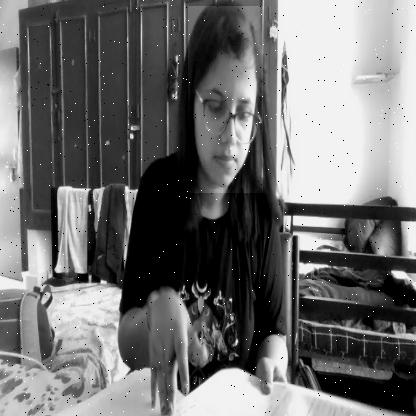Distracted: (188, 6, 263, 193)
